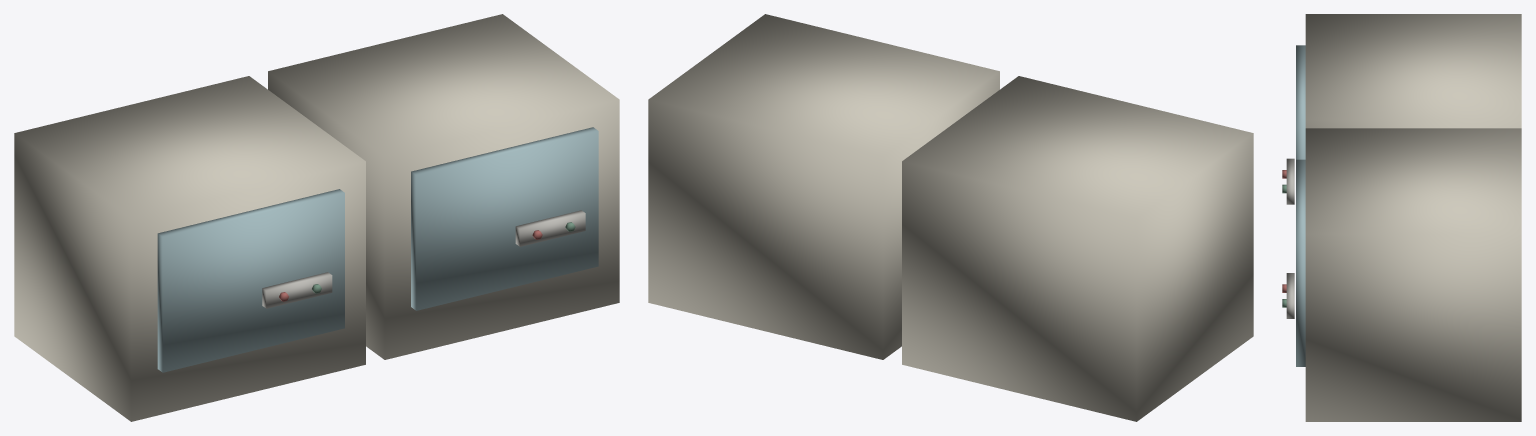
The model's file is crt_monitor__cluster.glb.
3 renders of one model, left to right at view 1: azimuth 30°, elevation 25°; view 2: azimuth 150°, elevation 25°; view 3: azimuth 270°, elevation 25°, orthographic. The views are drawn at different scales.
Visible parts, largest first — view 1: world; view 2: world; view 3: world.
Part boxes in pixels (left/top/right/bottom): world: left=14, top=14, right=619, bottom=421; world: left=648, top=14, right=1253, bottom=421; world: left=1282, top=14, right=1521, bottom=421.
Size of the model in its own units: 1.21 by 0.52 by 0.5535.
